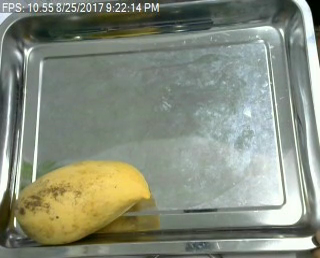Mango: (11, 157, 154, 246)
